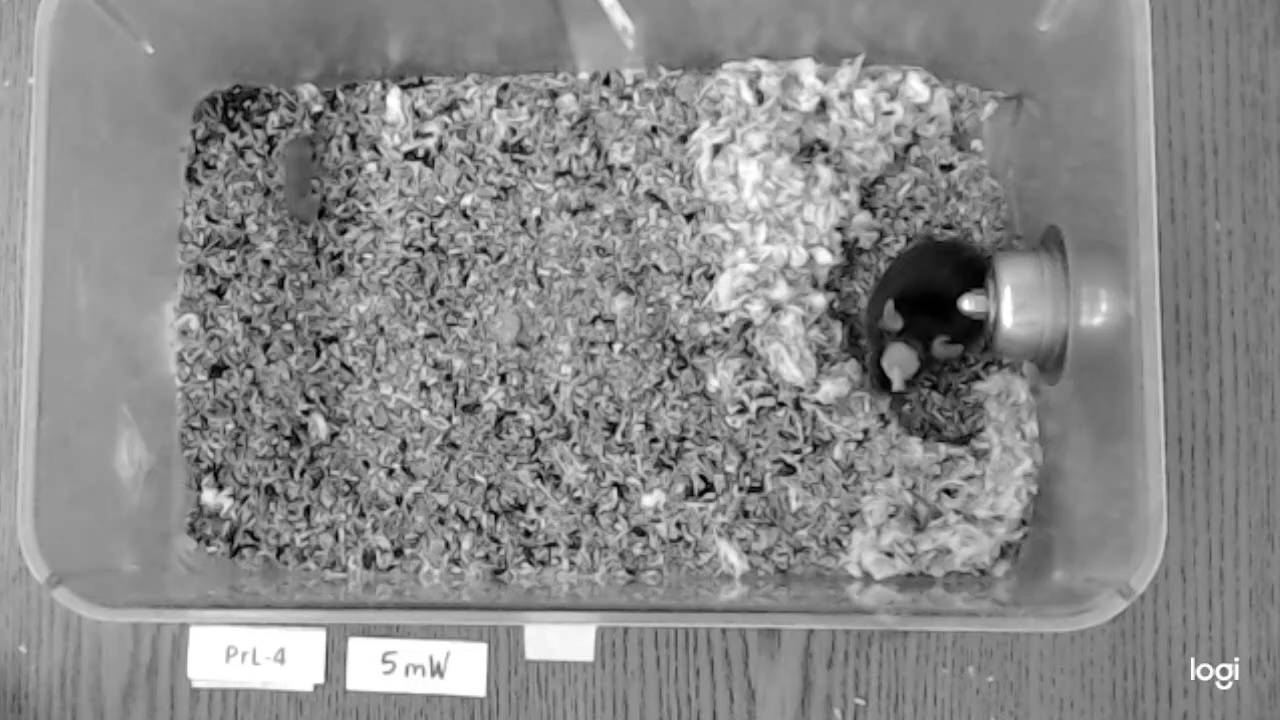parent-mice: (869, 237, 989, 395)
